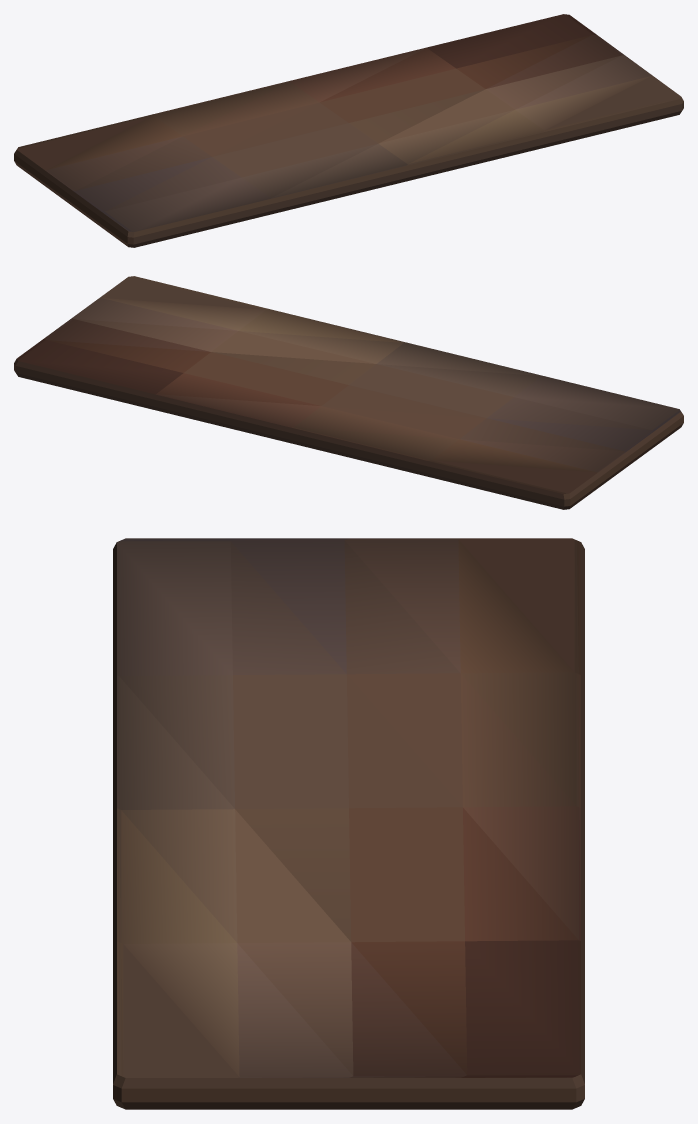
The model's file is Prop_Mat.fbx.
The picture shows the model from 3 angles, top to bottom: view 1: azimuth 30°, elevation 25°; view 2: azimuth 150°, elevation 25°; view 3: azimuth 270°, elevation 25°; orthographic projection. The views are drawn at different scales.
Visible parts, largest first — view 1: Prop_Mat; view 2: Prop_Mat; view 3: Prop_Mat.
Boxes of the visible parts, x1=… form: Prop_Mat: x1=14, y1=14, x2=683, y2=247; Prop_Mat: x1=14, y1=276, x2=683, y2=509; Prop_Mat: x1=113, y1=538, x2=584, y2=1109.
Bounding box in the file's own units: 277 × 7.5 × 102.
